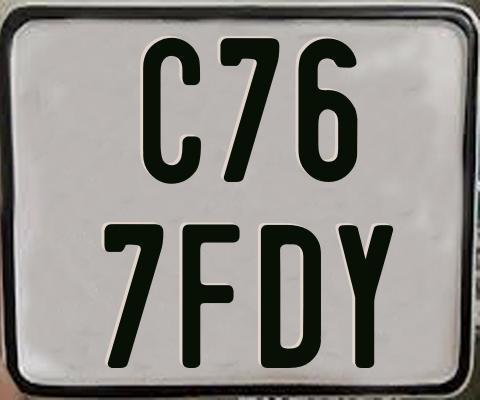6: (295, 37, 355, 186)
7: (217, 38, 279, 188), (101, 223, 162, 373)
C: (140, 38, 204, 187)
D: (261, 222, 322, 368)
F: (179, 224, 237, 374)
Y: (337, 225, 397, 370)
